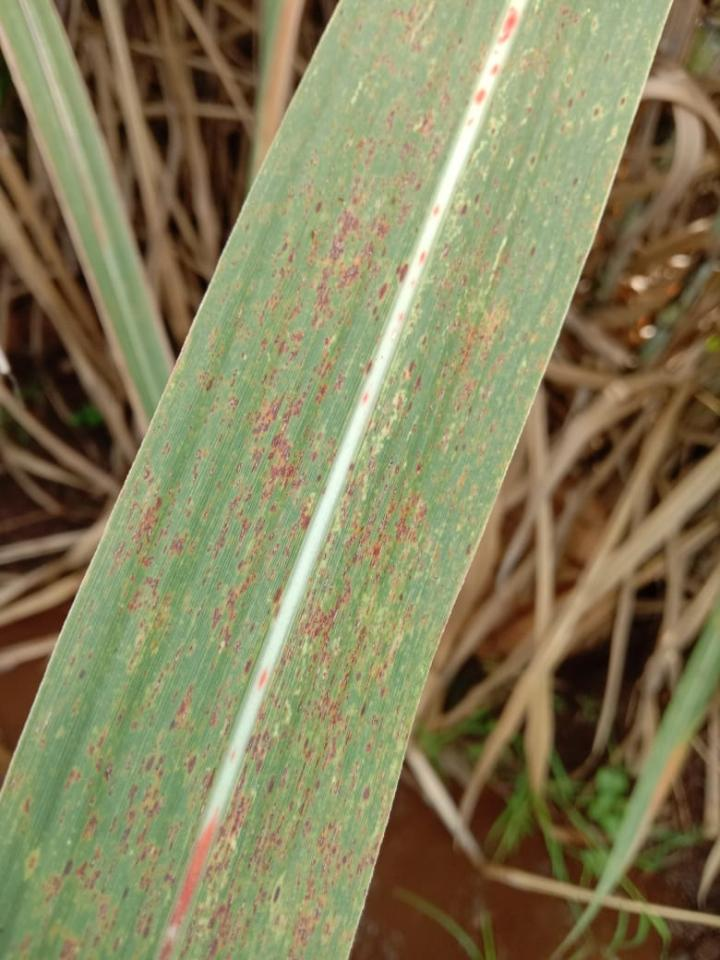RedRot: (156, 805, 222, 959), (499, 7, 518, 44), (258, 667, 268, 691), (474, 89, 486, 104), (227, 749, 235, 765), (362, 392, 369, 405), (490, 64, 499, 74), (420, 251, 426, 264), (398, 312, 404, 324), (434, 205, 440, 217)
Rust: (1, 0, 507, 959), (166, 0, 634, 959)
